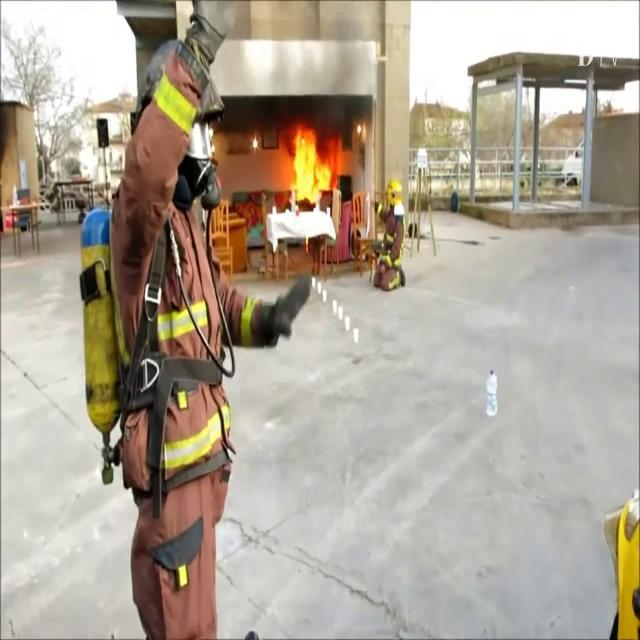Fire: (280, 122, 346, 208)
